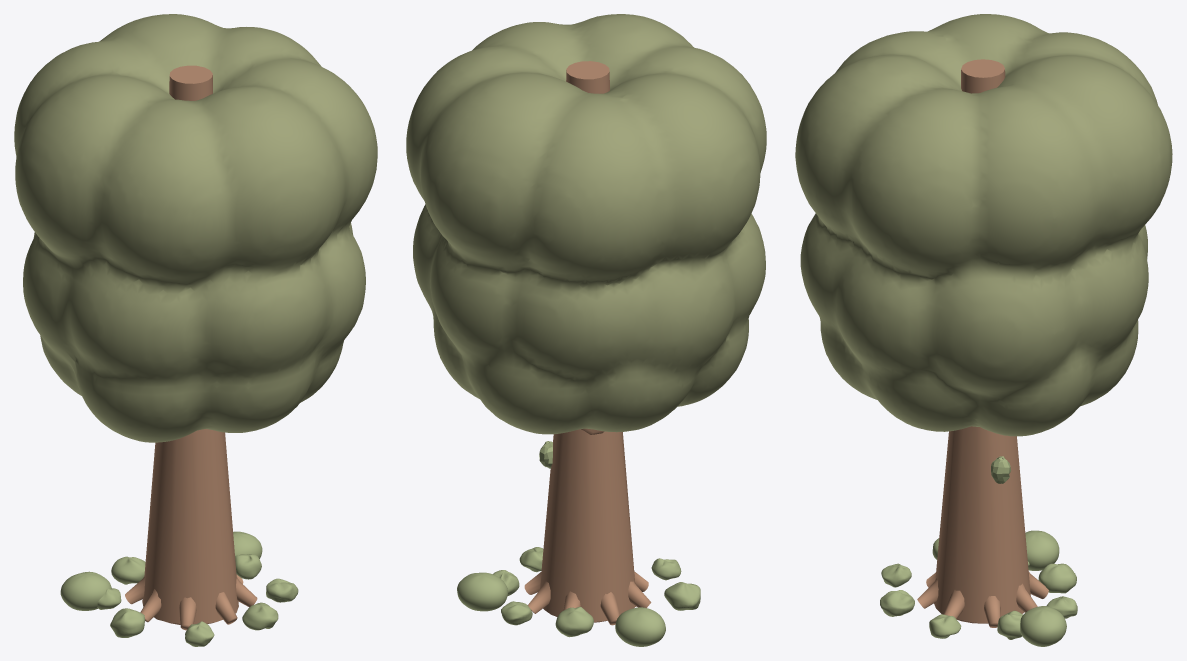
File: 13-small-tree.glb
3 renders of one model, left to right at view 1: azimuth 30°, elevation 25°; view 2: azimuth 150°, elevation 25°; view 3: azimuth 270°, elevation 25°, orthographic.
Visible parts, largest first — view 1: Canopy, Trunk, TuftStone0, TrunkTip, Tuft4, Tuft2, Tuft6, Tuft7, TuftStone1, Tuft0, Tuft5; view 2: Canopy, Trunk, TuftStone1, TuftStone0, TrunkTip, Tuft2, Tuft4, Tuft1, Tuft5; view 3: Canopy, Trunk, TuftStone1, TrunkTip, TuftStone0, Tuft2, Tuft6, Tuft7, Tuft0, Tuft5.
Boxes of the visible parts, left/top/right/bottom form: Canopy: left=14, top=14, right=377, bottom=442; Trunk: left=142, top=429, right=238, bottom=624; TuftStone0: left=60, top=571, right=111, bottom=610; TrunkTip: left=169, top=65, right=212, bottom=100; Tuft4: left=110, top=608, right=144, bottom=637; Tuft2: left=111, top=556, right=145, bottom=584; Tuft6: left=242, top=602, right=278, bottom=630; Tuft7: left=266, top=578, right=298, bottom=602; TuftStone1: left=233, top=531, right=262, bottom=558; Tuft0: left=235, top=554, right=261, bottom=579; Tuft5: left=185, top=621, right=214, bottom=646; Canopy: left=406, top=14, right=766, bottom=434; Trunk: left=540, top=429, right=635, bottom=621; TuftStone1: left=457, top=572, right=507, bottom=611; TuftStone0: left=615, top=607, right=665, bottom=646; TrunkTip: left=566, top=61, right=609, bottom=93; Tuft2: left=555, top=606, right=593, bottom=637; Tuft4: left=664, top=582, right=700, bottom=610; Tuft1: left=501, top=601, right=532, bottom=625; Tuft5: left=651, top=558, right=681, bottom=580; Canopy: left=795, top=14, right=1172, bottom=436; Trunk: left=934, top=426, right=1030, bottom=623; TuftStone1: left=1020, top=606, right=1066, bottom=646; TrunkTip: left=961, top=59, right=1005, bottom=93; TuftStone0: left=1025, top=530, right=1059, bottom=570; Tuft2: left=1038, top=563, right=1076, bottom=593; Tuft6: left=880, top=590, right=914, bottom=616; Tuft7: left=929, top=614, right=961, bottom=638; Tuft0: left=997, top=610, right=1022, bottom=639; Tuft5: left=881, top=563, right=911, bottom=587.
Size of the model in its own units: 2.1 by 3.47 by 2.15.
